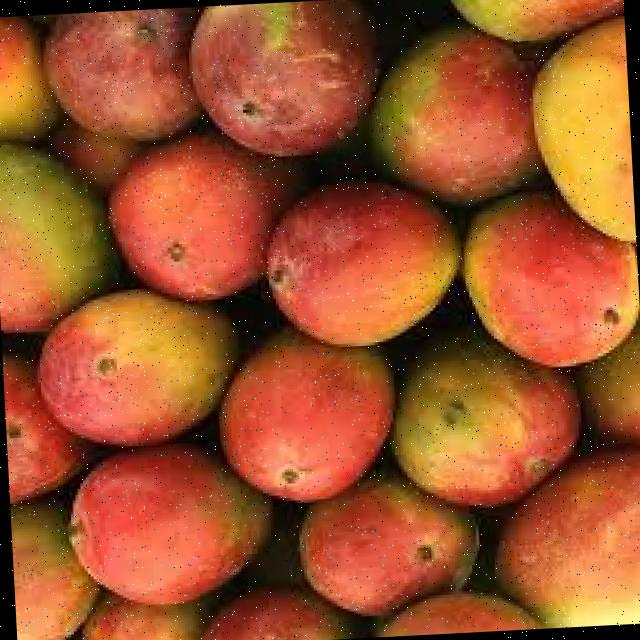mango: (266, 181, 455, 345)
